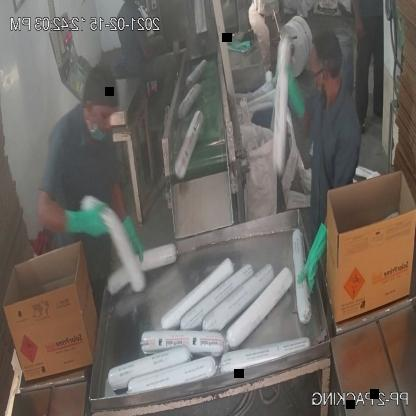glove: (289, 206, 334, 310), (65, 201, 113, 247), (275, 71, 310, 129), (120, 208, 147, 271)
